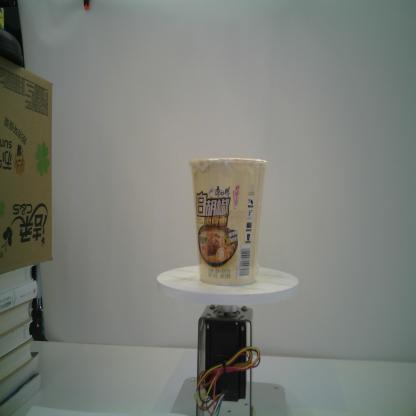Instant Noodles: (188, 156, 267, 287)
